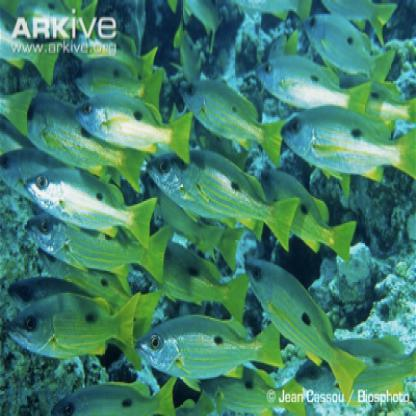snapper: (240, 249, 370, 408), (145, 141, 302, 249), (23, 162, 161, 261), (70, 88, 198, 176), (138, 305, 289, 378), (5, 292, 148, 358), (256, 60, 369, 124)
